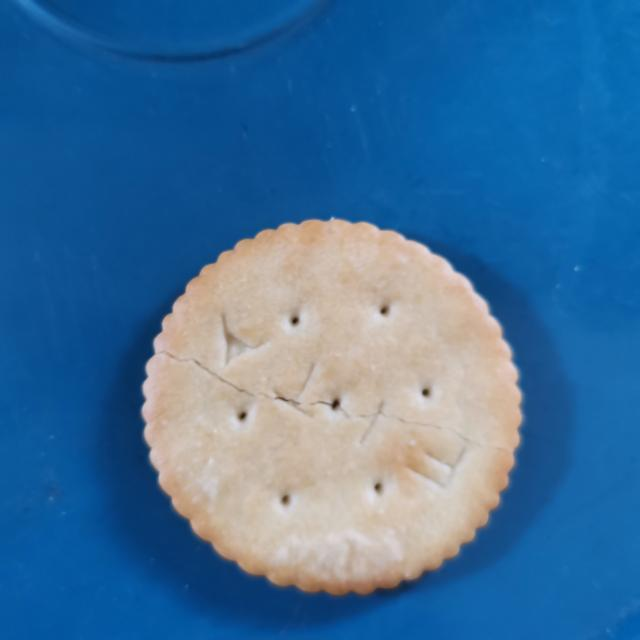Fracture: (143, 333, 519, 471)
